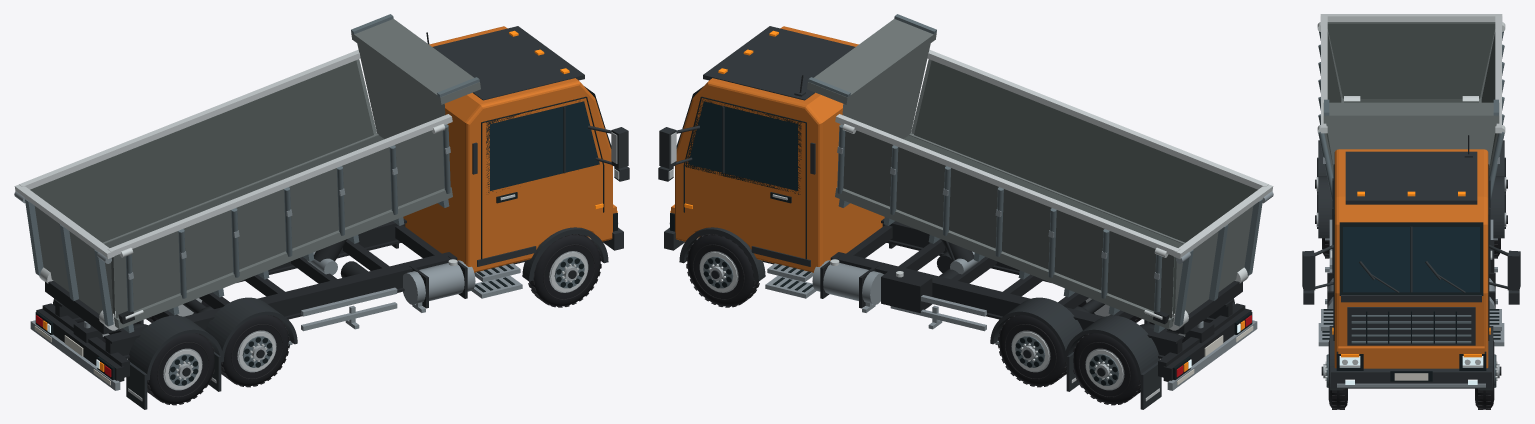
The model's file is dump-truck.glb.
The picture shows the model from 3 angles, left to right: view 1: azimuth 30°, elevation 25°; view 2: azimuth 150°, elevation 25°; view 3: azimuth 270°, elevation 25°; orthographic projection.
Parts seen in each view (by area): view 1: Dump bed steel, Dump bed inner steel, Cab paint, Graphite trim, Black chassis steel, Polished metal (×2), Tyre rubber, Cargo understructure (×2), Smoked cab glass, Galvanised steel, Panel gaps, Tyre tread (+1 smaller); view 2: Dump bed steel, Dump bed inner steel, Cab paint, Black chassis steel, Graphite trim, Polished metal (×2), Tyre rubber, Cargo understructure (×2), Smoked cab glass, Galvanised steel, Panel gaps, Tyre tread (+1 smaller); view 3: Graphite trim, Dump bed inner steel, Cab paint, Dump bed steel, Smoked cab glass, Panel gaps, Polished metal (×2), Cargo understructure (×2), Galvanised steel, Tyre rubber, Tyre tread, Black chassis steel (+4 smaller).
Boxes of the visible parts, x1=… form: Dump bed steel: x1=34, y1=19, x2=480, y2=329; Dump bed inner steel: x1=30, y1=60, x2=383, y2=324; Cab paint: x1=403, y1=26, x2=616, y2=272; Graphite trim: x1=52, y1=26, x2=629, y2=409; Black chassis steel: x1=36, y1=32, x2=588, y2=381; Polished metal (×2): x1=14, y1=49, x2=619, y2=389; Tyre rubber: x1=77, y1=234, x2=600, y2=404; Cargo understructure (×2): x1=25, y1=14, x2=584, y2=385; Smoked cab glass: x1=490, y1=101, x2=611, y2=190; Galvanised steel: x1=30, y1=251, x2=522, y2=390; Panel gaps: x1=35, y1=86, x2=617, y2=385; Tyre tread: x1=138, y1=234, x2=601, y2=405; Dump bed steel: x1=807, y1=19, x2=1253, y2=329; Dump bed inner steel: x1=904, y1=60, x2=1257, y2=321; Cab paint: x1=671, y1=26, x2=884, y2=272; Black chassis steel: x1=699, y1=75, x2=1251, y2=381; Graphite trim: x1=658, y1=26, x2=1235, y2=409; Polished metal (×2): x1=668, y1=49, x2=1273, y2=389; Tyre rubber: x1=687, y1=234, x2=1210, y2=404; Cargo understructure (×2): x1=703, y1=14, x2=1262, y2=385; Smoked cab glass: x1=676, y1=101, x2=797, y2=190; Galvanised steel: x1=765, y1=251, x2=1257, y2=390; Panel gaps: x1=670, y1=86, x2=1252, y2=385; Tyre tread: x1=686, y1=234, x2=1149, y2=405; Graphite trim: x1=1302, y1=140, x2=1520, y2=390; Dump bed inner steel: x1=1326, y1=23, x2=1496, y2=166; Cab paint: x1=1334, y1=149, x2=1488, y2=368; Dump bed steel: x1=1323, y1=22, x2=1499, y2=176; Smoked cab glass: x1=1343, y1=227, x2=1479, y2=292; Panel gaps: x1=1322, y1=164, x2=1500, y2=386; Polished metal (×2): x1=1317, y1=14, x2=1505, y2=380; Cargo understructure (×2): x1=1318, y1=31, x2=1504, y2=387; Galvanised steel: x1=1318, y1=219, x2=1504, y2=387; Tyre rubber: x1=1322, y1=238, x2=1500, y2=409; Tyre tread: x1=1322, y1=238, x2=1500, y2=409; Black chassis steel: x1=1315, y1=135, x2=1507, y2=375.
Size of the model in its own units: 8.66 by 3.99 by 3.17.
